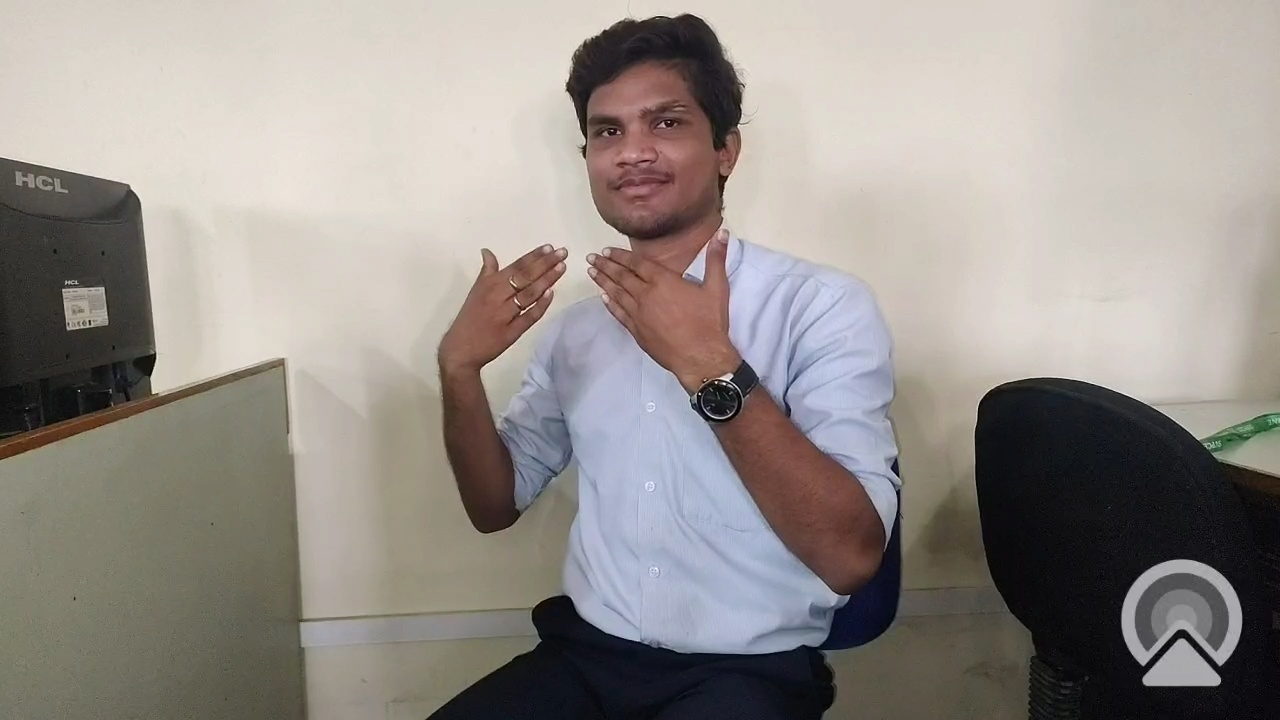Thank you: (414, 208, 816, 517)
